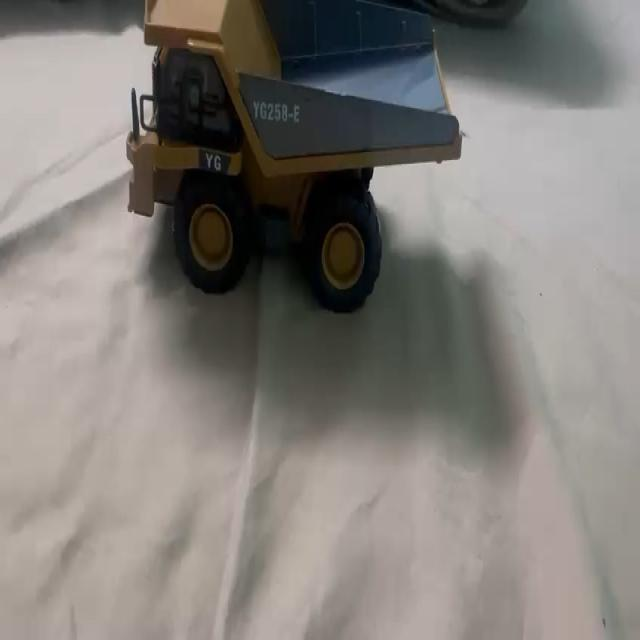dump_truck: (116, 0, 464, 313)
